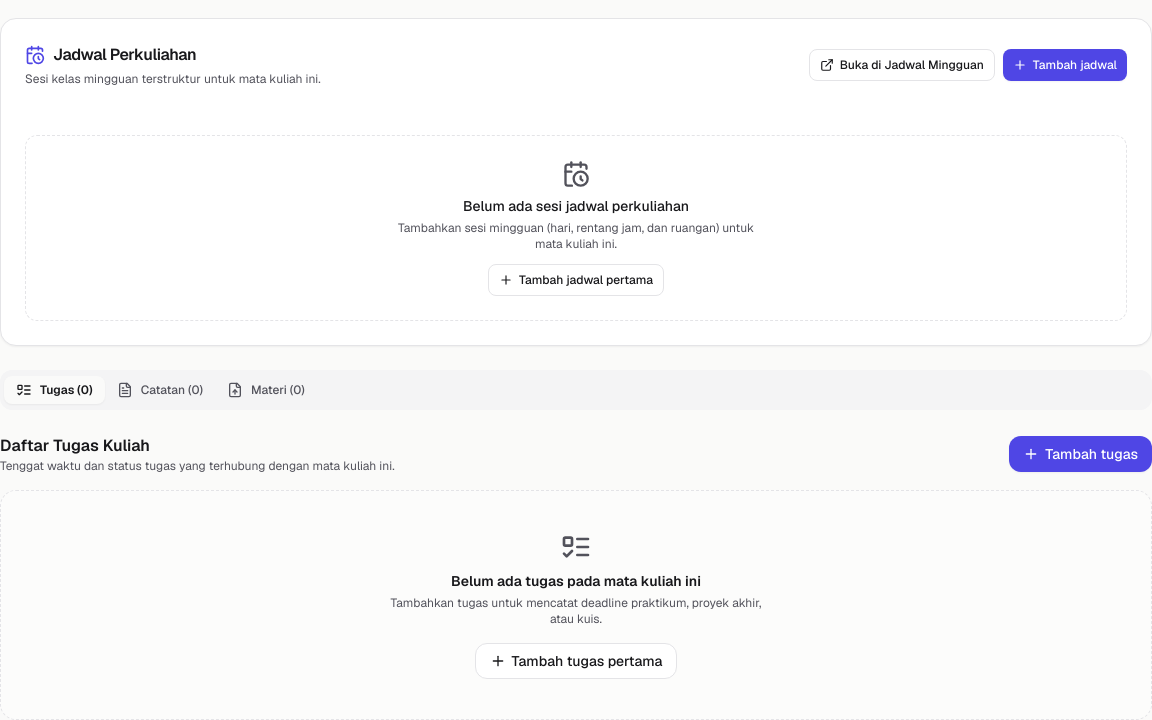
Test case: CourseDetailPage - Error States & Resilience Behavioral Tests › 7. Kegagalan API catatan menampilkan error state pada tab Catatan
The image size is (1152, 720).
(page scrolled)
// Buka tab Catatan
Click the tab "Catatan (0)". click: (160, 390)
box: [105,376,215,404]
(page scrolled)
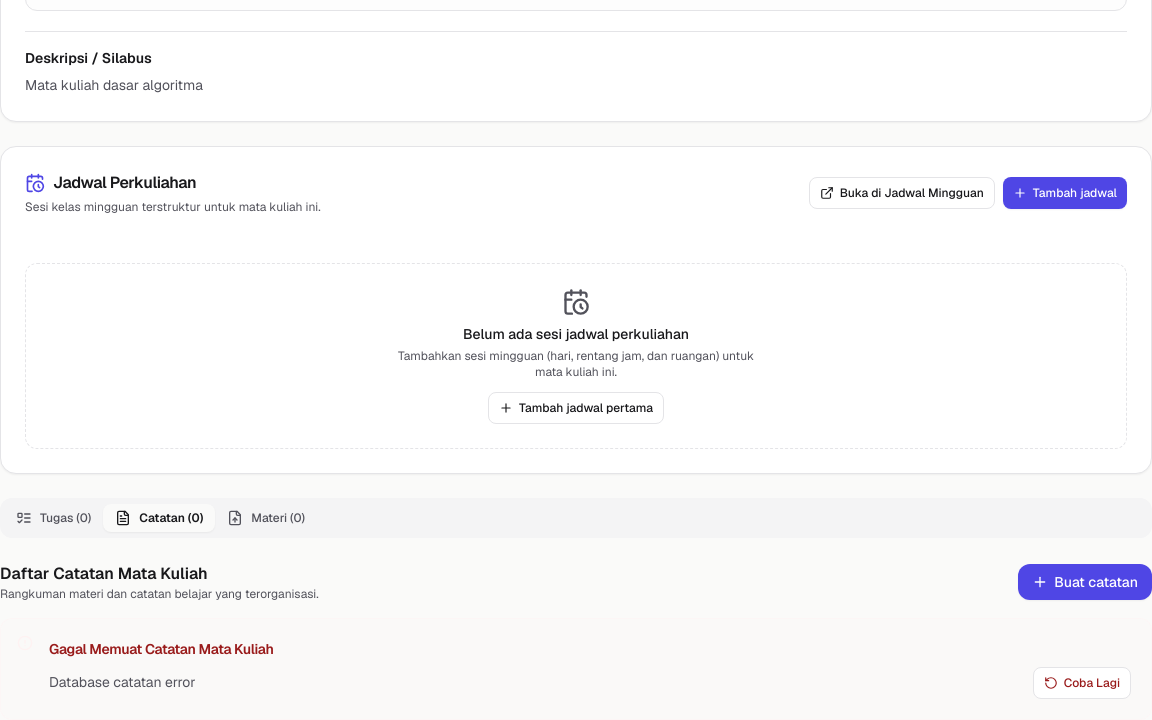
Check: the message "Gagal Memuat Catatan Mata Kuliah Database catatan error Coba Lagi" is shown, box [0,618,1151,719]
Check: the heading "Gagal Memuat Catatan Mata Kuliah" is shown, box [49,640,274,658]
Check: the text "Database catatan error" is shown, box [49,671,196,694]
